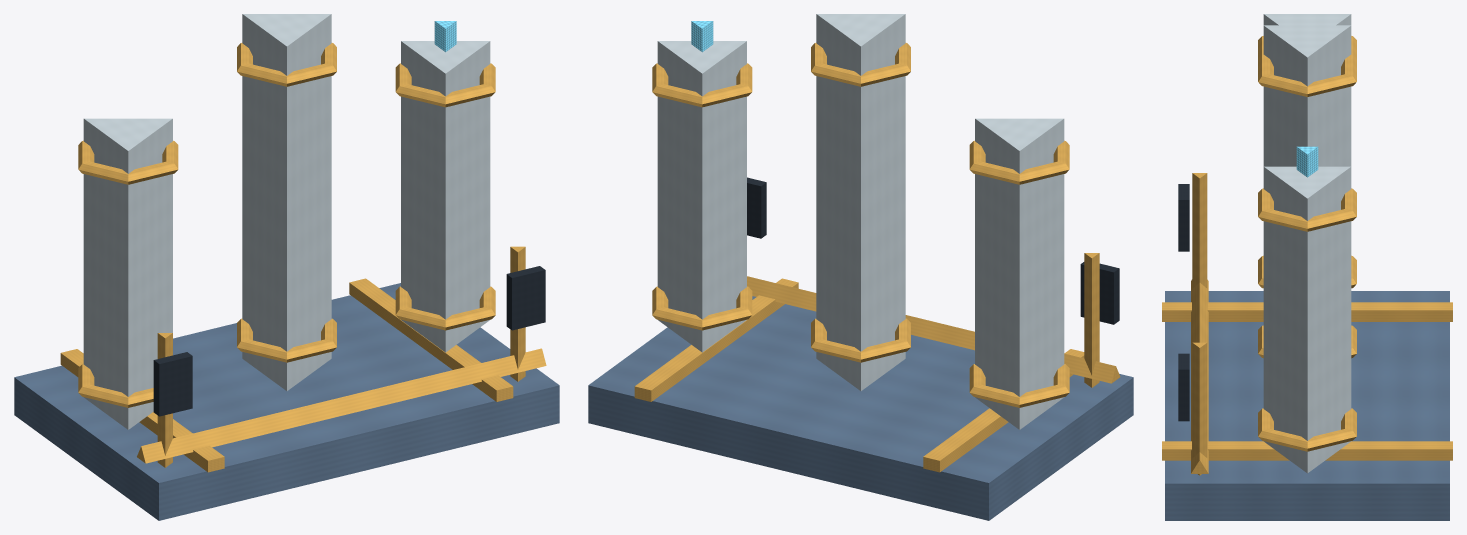
File: atlas100-s055-a02.lod2.glb
3 renders of one model, left to right at view 1: azimuth 30°, elevation 25°; view 2: azimuth 150°, elevation 25°; view 3: azimuth 270°, elevation 25°, orthographic.
Parts seen in each view (by area): view 1: atlas100-s055-a02:part-000, atlas100-s055-a02:part-007, atlas100-s055-a02:part-011, atlas100-s055-a02:part-003, atlas100-s055-a02:part-019, atlas100-s055-a02:part-002, atlas100-s055-a02:part-016, atlas100-s055-a02:part-018, atlas100-s055-a02:part-013, atlas100-s055-a02:part-005, atlas100-s055-a02:part-012, atlas100-s055-a02:part-008 (+6 smaller); view 2: atlas100-s055-a02:part-000, atlas100-s055-a02:part-007, atlas100-s055-a02:part-003, atlas100-s055-a02:part-011, atlas100-s055-a02:part-019, atlas100-s055-a02:part-002, atlas100-s055-a02:part-001, atlas100-s055-a02:part-013, atlas100-s055-a02:part-005, atlas100-s055-a02:part-012, atlas100-s055-a02:part-004, atlas100-s055-a02:part-008 (+5 smaller); view 3: atlas100-s055-a02:part-000, atlas100-s055-a02:part-011, atlas100-s055-a02:part-007, atlas100-s055-a02:part-002, atlas100-s055-a02:part-001, atlas100-s055-a02:part-009, atlas100-s055-a02:part-013, atlas100-s055-a02:part-012, atlas100-s055-a02:part-019, atlas100-s055-a02:part-017, atlas100-s055-a02:part-015, atlas100-s055-a02:part-003 (+5 smaller).
Boxes of the visible parts, x1,y1,x2,y2 form: atlas100-s055-a02:part-000: (14, 283, 559, 520); atlas100-s055-a02:part-007: (242, 14, 331, 390); atlas100-s055-a02:part-011: (401, 41, 490, 352); atlas100-s055-a02:part-003: (83, 118, 172, 429); atlas100-s055-a02:part-019: (137, 348, 546, 463); atlas100-s055-a02:part-002: (349, 278, 513, 401); atlas100-s055-a02:part-016: (153, 352, 192, 416); atlas100-s055-a02:part-018: (506, 266, 545, 330); atlas100-s055-a02:part-013: (395, 63, 495, 107); atlas100-s055-a02:part-005: (78, 140, 178, 184); atlas100-s055-a02:part-012: (395, 286, 495, 330); atlas100-s055-a02:part-008: (237, 318, 336, 362); atlas100-s055-a02:part-000: (588, 296, 1133, 520); atlas100-s055-a02:part-007: (816, 14, 905, 390); atlas100-s055-a02:part-003: (975, 118, 1064, 429); atlas100-s055-a02:part-011: (657, 41, 746, 352); atlas100-s055-a02:part-019: (747, 276, 1120, 383); atlas100-s055-a02:part-002: (634, 278, 798, 401); atlas100-s055-a02:part-001: (923, 349, 1084, 472); atlas100-s055-a02:part-013: (652, 63, 752, 107); atlas100-s055-a02:part-005: (969, 140, 1069, 184); atlas100-s055-a02:part-012: (652, 286, 752, 330); atlas100-s055-a02:part-004: (969, 364, 1069, 407); atlas100-s055-a02:part-008: (811, 318, 910, 362); atlas100-s055-a02:part-000: (1165, 291, 1449, 520); atlas100-s055-a02:part-011: (1263, 166, 1351, 473); atlas100-s055-a02:part-007: (1263, 25, 1351, 166); atlas100-s055-a02:part-002: (1162, 441, 1452, 460); atlas100-s055-a02:part-001: (1162, 302, 1452, 321); atlas100-s055-a02:part-009: (1258, 53, 1356, 96); atlas100-s055-a02:part-013: (1258, 188, 1356, 231); atlas100-s055-a02:part-012: (1258, 408, 1356, 451); atlas100-s055-a02:part-019: (1191, 279, 1208, 473); atlas100-s055-a02:part-017: (1192, 342, 1207, 475); atlas100-s055-a02:part-015: (1192, 173, 1207, 288); atlas100-s055-a02:part-003: (1263, 14, 1351, 25).
Bounding box in the file's own units: 3 × 2.71 × 1.84.
Materials: 5 (5 with a texture image).
